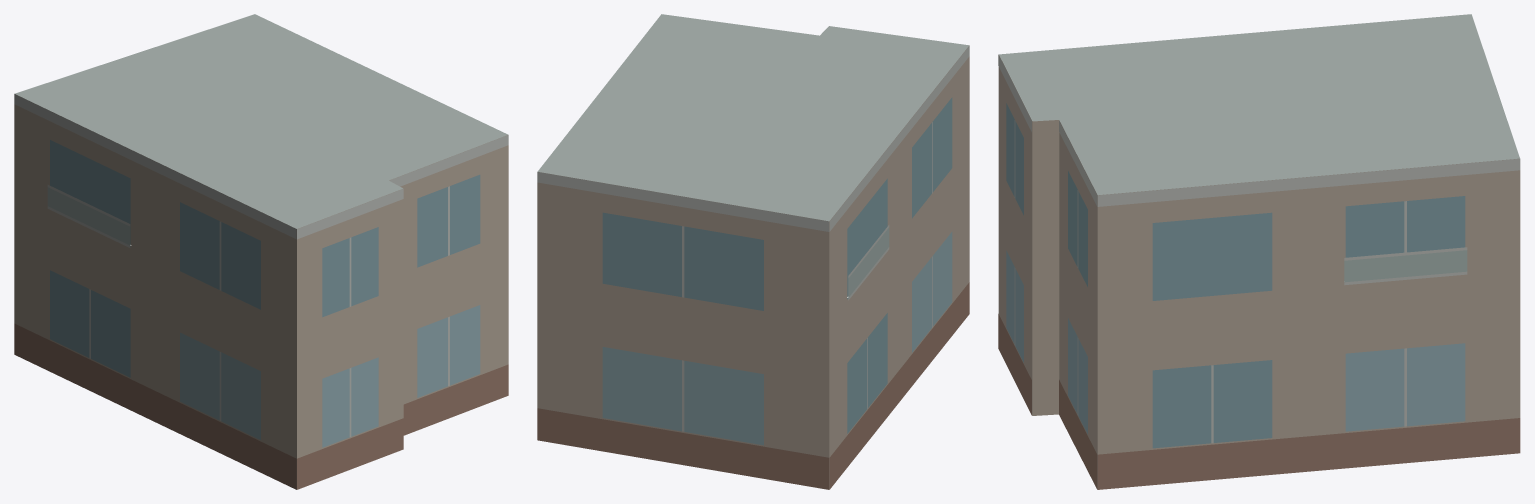
Rendered from survey-upis-32602829.glb.
3 renders of one model, left to right at view 1: azimuth 30°, elevation 25°; view 2: azimuth 150°, elevation 25°; view 3: azimuth 270°, elevation 25°, orthographic. The views are drawn at different scales.
Visible parts, largest first — view 1: survey-upis-32602829.tmp; view 2: survey-upis-32602829.tmp; view 3: survey-upis-32602829.tmp.
Part boxes in pixels (x1=…): survey-upis-32602829.tmp: x1=14, y1=14, x2=508, y2=489; survey-upis-32602829.tmp: x1=537, y1=14, x2=969, y2=489; survey-upis-32602829.tmp: x1=998, y1=14, x2=1520, y2=489.
Size of the model in its own units: 8.05 by 6.1 by 9.8.
